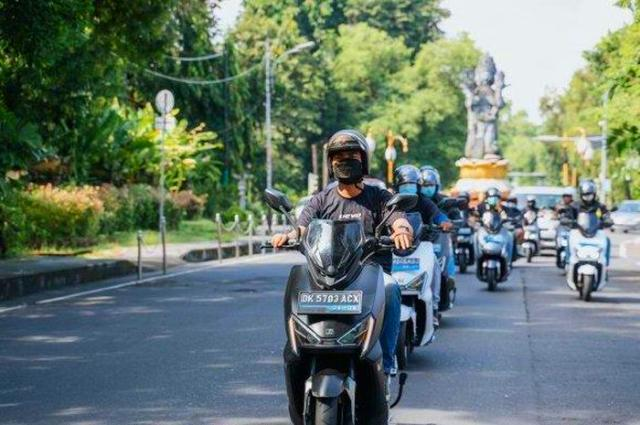helm: (327, 127, 374, 191), (394, 167, 425, 202), (418, 167, 443, 202), (485, 187, 502, 209), (581, 183, 598, 204)
motor: (259, 191, 419, 425), (390, 223, 460, 372), (560, 210, 620, 303), (469, 208, 521, 290)
